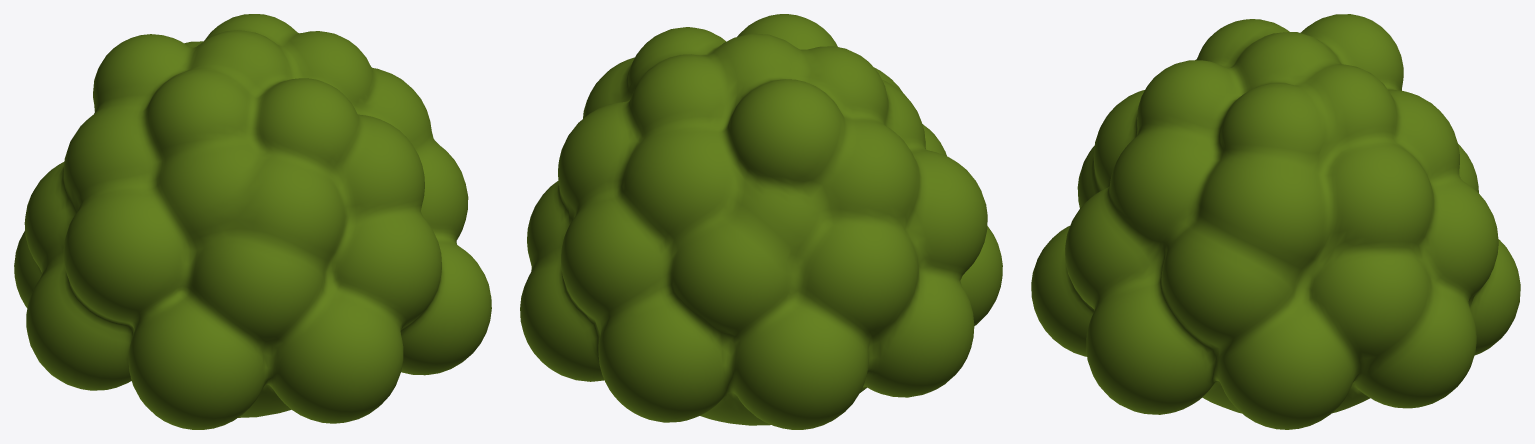
The model's file is SM_Bush_01.fbx.
3 views of the same model, side by side, from view 1: azimuth 30°, elevation 25°; view 2: azimuth 150°, elevation 25°; view 3: azimuth 270°, elevation 25° (orthographic).
Visible parts, largest first — view 1: Bush; view 2: Bush; view 3: Bush.
Part boxes in pixels (left/top/right/bottom): Bush: left=14, top=14, right=491, bottom=429; Bush: left=520, top=14, right=1002, bottom=429; Bush: left=1031, top=14, right=1520, bottom=429.
Size of the model in its own units: 292 by 247 by 300.
